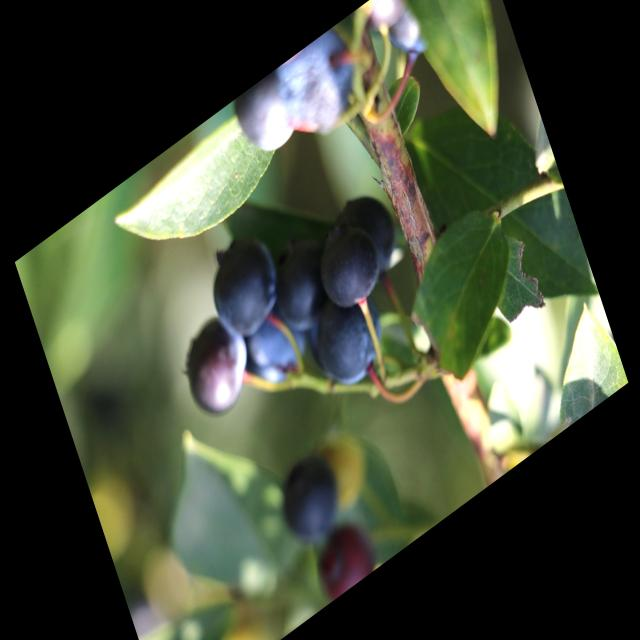blueberry: (197, 212, 295, 359), (273, 21, 375, 159), (170, 296, 266, 440), (302, 264, 398, 404), (304, 198, 392, 329), (267, 437, 353, 563), (260, 225, 344, 352), (233, 286, 317, 408), (229, 66, 307, 175), (337, 174, 407, 288), (382, 0, 442, 78), (357, 0, 416, 52)
